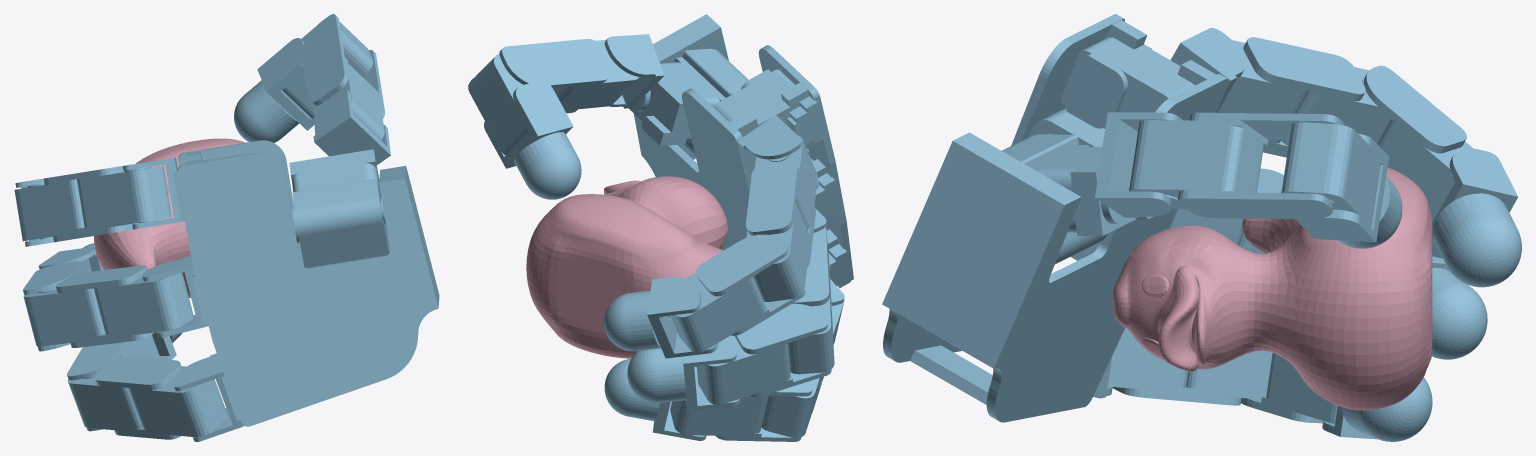
3 views of the same model, side by side, from view 1: azimuth 30°, elevation 25°; view 2: azimuth 150°, elevation 25°; view 3: azimuth 270°, elevation 25° (orthographic). The views are drawn at different scales.
Visible parts, largest first — view 1: world; view 2: world; view 3: world.
Part boxes in pixels (<box>): world: <box>14,14,439,441</box>; world: <box>468,14,853,441</box>; world: <box>882,14,1521,441</box>.
Bounding box in the file's own units: 0.1692 × 0.1547 × 0.1918.
